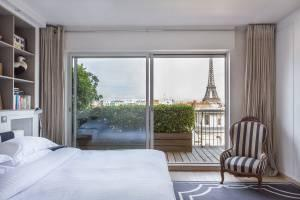window: (67, 54, 231, 166)
